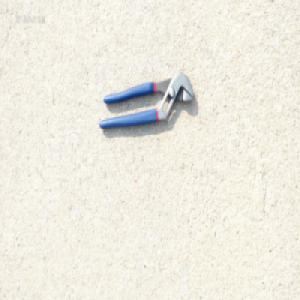Pliers: (98, 71, 195, 131)
